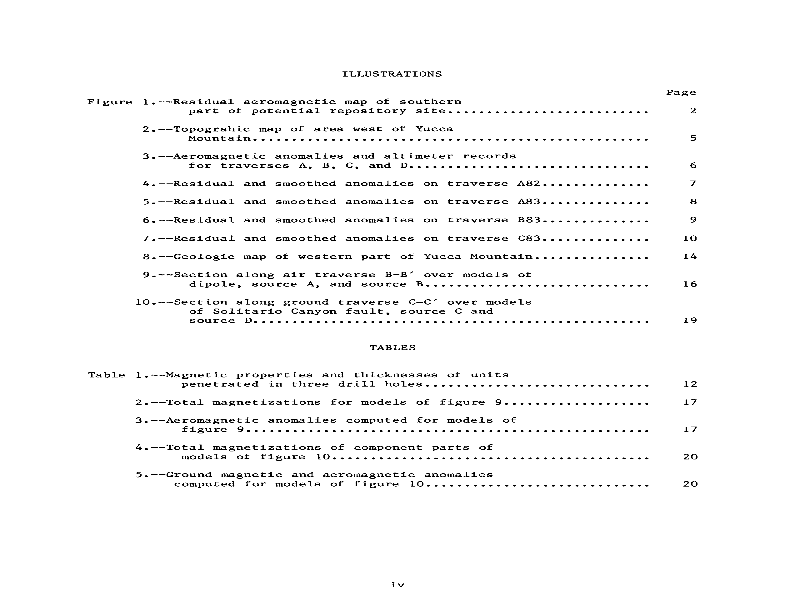table: (85, 85, 712, 337), (85, 354, 714, 517)
